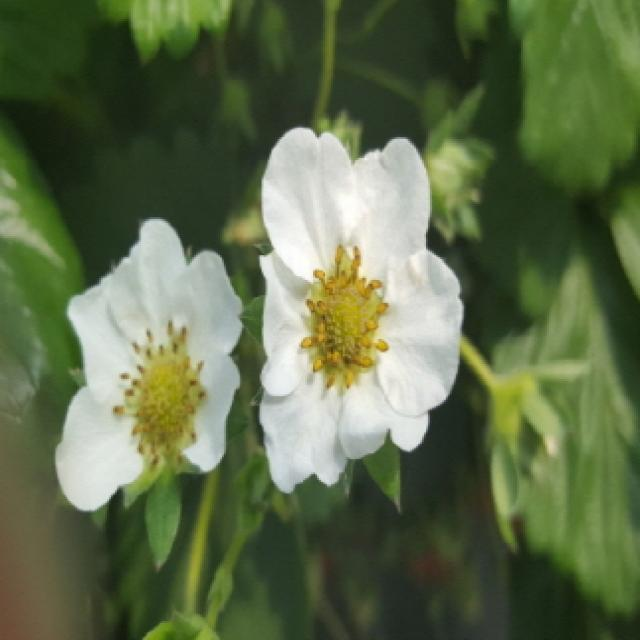Blossom Blight: (107, 315, 212, 478), (298, 238, 399, 396)
